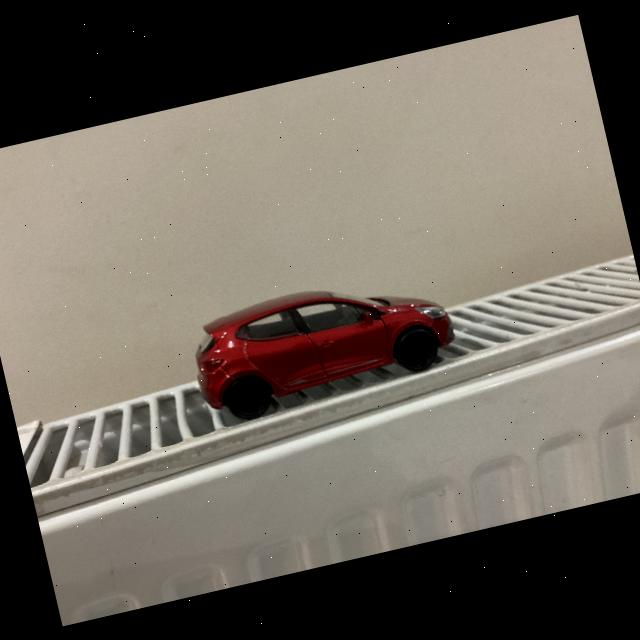Dogru_Jant: (228, 379, 270, 418), (398, 332, 438, 370)
